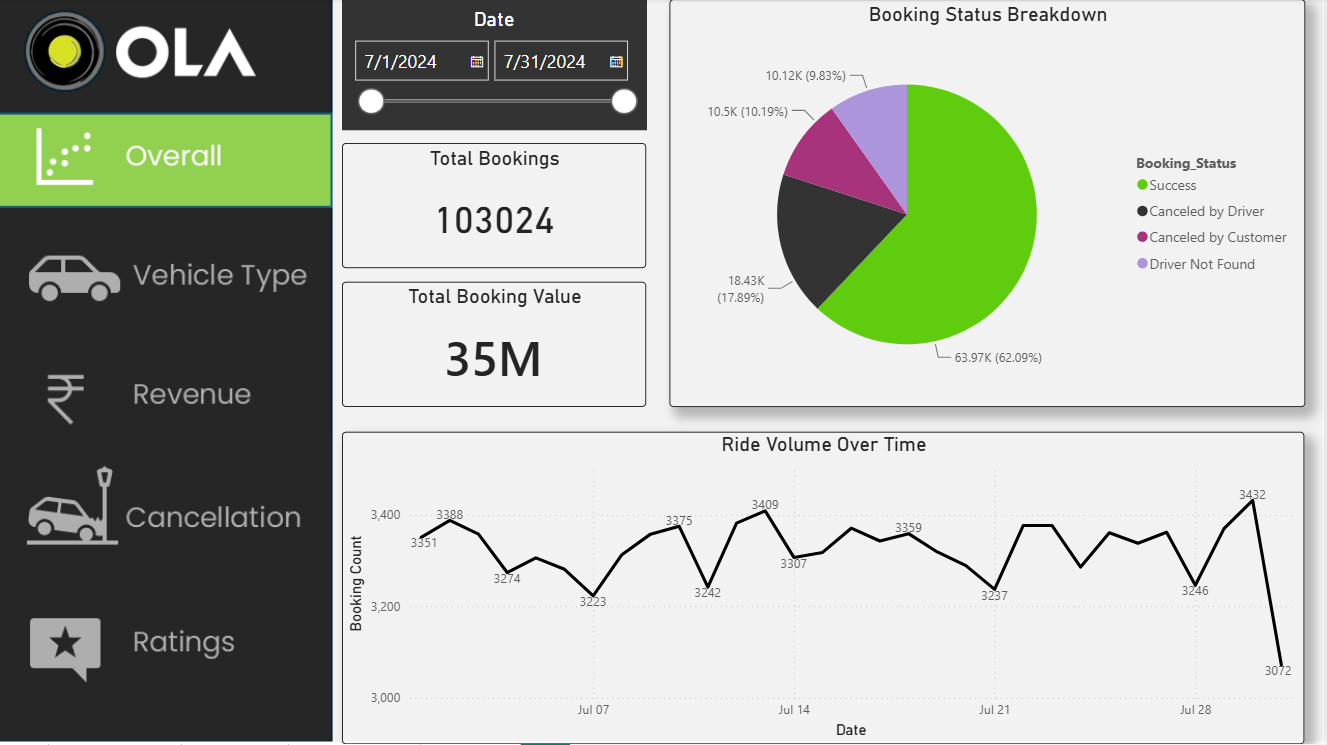

The dashboard page shown, as its layout file describes it:
{"tool":"powerbi","page":{"name":"Overall","canvas":[1280,720],"ordinal":0},"visuals":[{"type":"lineChart","title":"Ride Volume Over Time","fields":{"Y":["CountNonNull(July.Booking_ID)"],"Category":["July.Date"]},"box":[333.4,418.5,929,301.9],"z":0},{"type":"pieChart","title":"Booking Status Breakdown","fields":{"Category":["July.Booking_Status"],"Y":["CountNonNull(July.Booking_Status)"]},"box":[649.1,1.4,613.4,393.8],"z":1000},{"type":"slicer","title":"Date","fields":{"Values":["July.Date"]},"box":[333.4,1.4,293.7,126.2],"z":2000},{"type":"cardVisual","title":"Total Booking Value","fields":{"Data":["Sum(July.Booking_Value)"]},"box":[333.4,274.4,293.7,120.8],"z":3000},{"type":"card","title":"Total Bookings","fields":{"Values":["Count(July.Booking_ID)"]},"box":[333.4,140,293.7,120.8],"z":4000},{"type":"actionButton","box":[0,230.9,326.4,86.9],"z":5000},{"type":"actionButton","box":[0,332.1,326.4,86.9],"z":6000},{"type":"actionButton","box":[0,453.3,326.4,86.9],"z":7000},{"type":"actionButton","box":[0,588.7,326.4,86.9],"z":8000}]}

Visuals, with their boxes on the page's 1280x720 design canvas (x1, y1, x2, y2). These are canvas units, not pixel positions in the 1327x745 screenshot, which may show the page scaled, cropped or inside an application window:
"Ride Volume Over Time" lineChart: box(333, 418, 1262, 720)
"Booking Status Breakdown" pieChart: box(649, 1, 1262, 395)
"Date" slicer: box(333, 1, 627, 128)
"Total Booking Value" cardVisual: box(333, 274, 627, 395)
"Total Bookings" card: box(333, 140, 627, 261)
actionButton: box(0, 231, 326, 318)
actionButton: box(0, 332, 326, 419)
actionButton: box(0, 453, 326, 540)
actionButton: box(0, 589, 326, 676)
